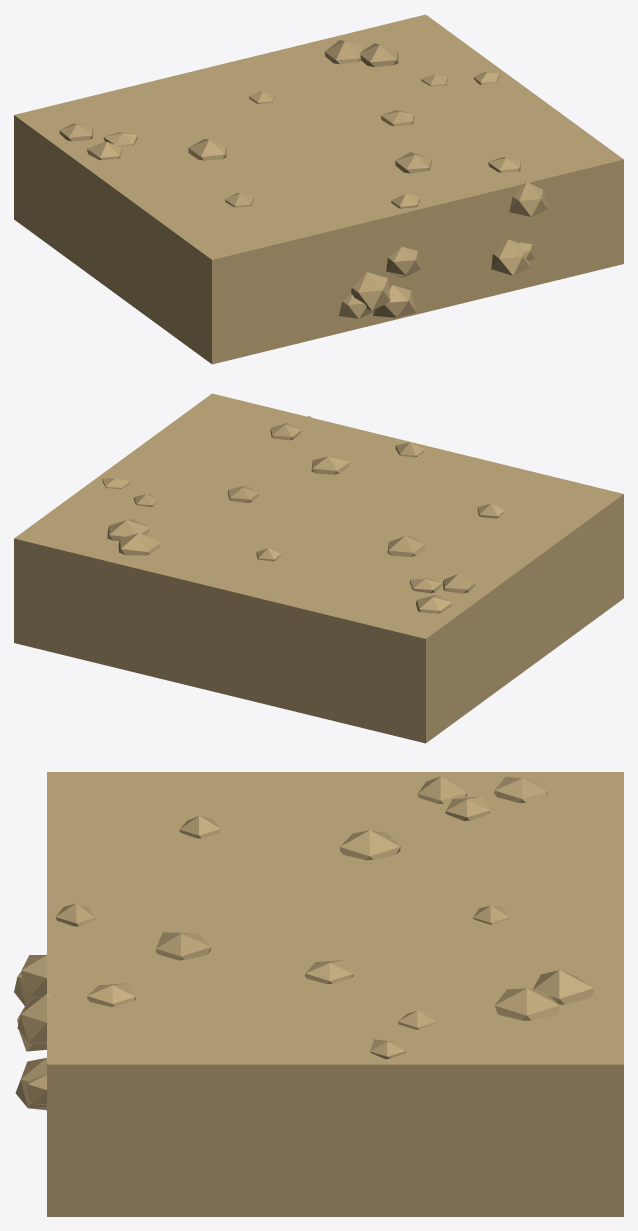
The model's file is pit-sand.glb.
3 renders of one model, top to bottom at view 1: azimuth 30°, elevation 25°; view 2: azimuth 150°, elevation 25°; view 3: azimuth 270°, elevation 25°, orthographic. The views are drawn at different scales.
Parts seen in each view (by area): view 1: pit-sand; view 2: pit-sand; view 3: pit-sand.
Boxes of the visible parts, box(x1,y1,x2,y2) form: pit-sand: box(14, 14, 623, 364); pit-sand: box(14, 393, 623, 743); pit-sand: box(14, 772, 623, 1216).
Size of the model in its own units: 1.32 by 0.365 by 1.16.
